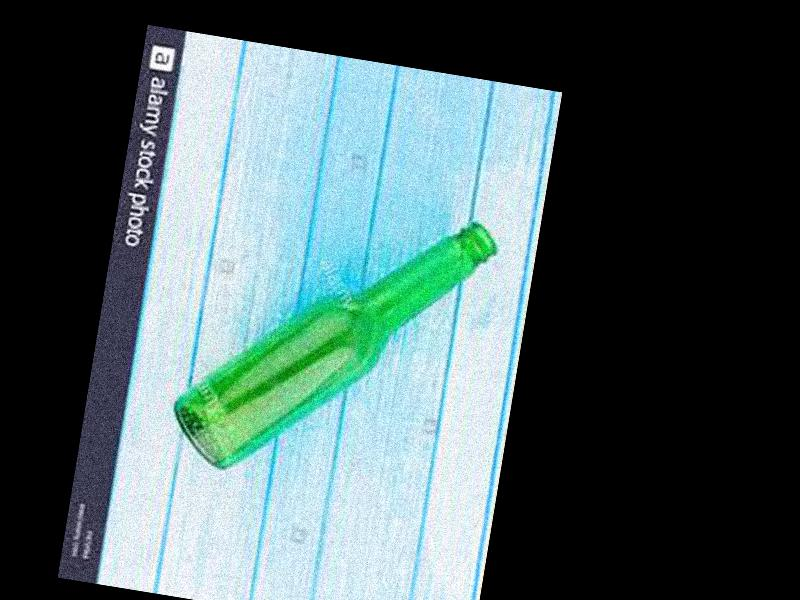Beer: (160, 175, 502, 510)
